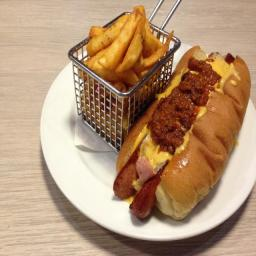hotdog: (114, 39, 251, 214), (82, 2, 170, 102)
